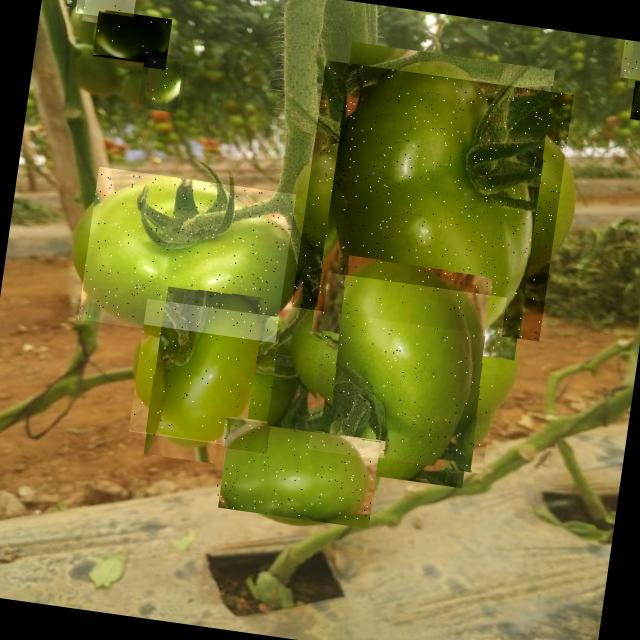Unripe Tomato: (292, 61, 574, 342), (304, 273, 507, 474), (78, 167, 296, 347), (128, 299, 282, 453), (213, 420, 380, 530), (92, 10, 172, 70), (138, 60, 187, 110), (75, 0, 139, 21), (619, 40, 640, 84), (630, 80, 640, 124)
